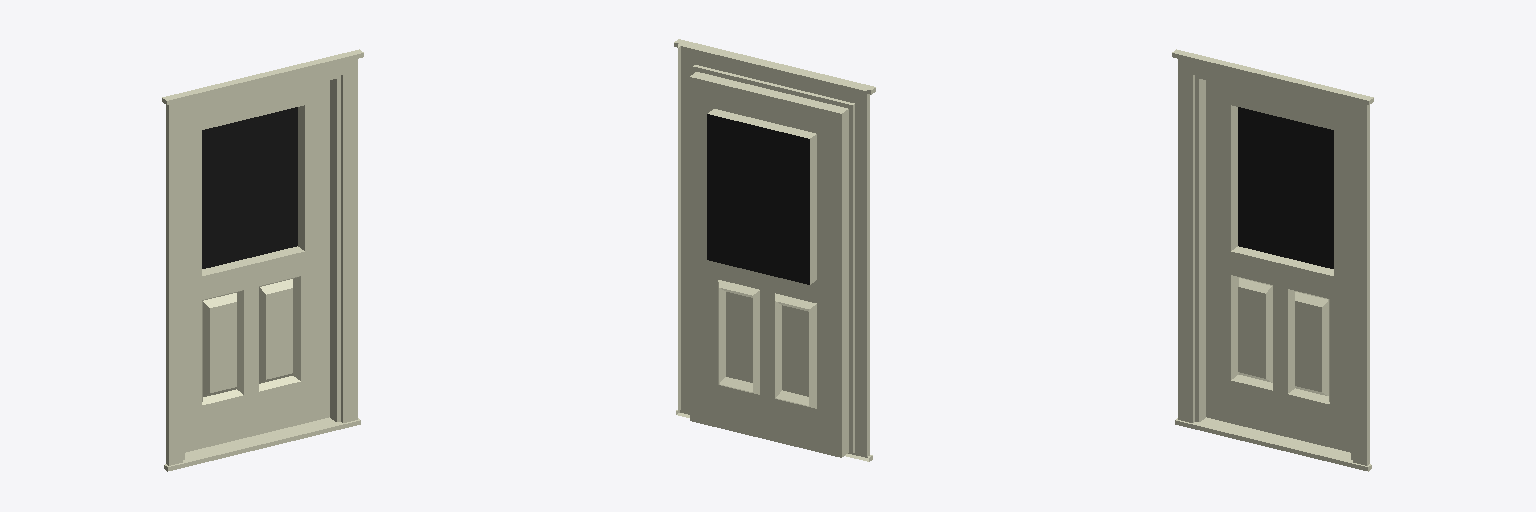
File: cat8_door.obj
3 views of the same model, side by side, from view 1: azimuth 30°, elevation 25°; view 2: azimuth 150°, elevation 25°; view 3: azimuth 330°, elevation 25° (orthographic).
Visible parts, largest first — view 1: Door, Door_Frame_Color B04, Glass; view 2: Door, Door_Frame_Color B04, Glass; view 3: Door, Door_Frame_Color B04, Glass.
Boxes of the visible parts, x1,y1,x2,y2 form: Door: [185, 80, 329, 452]; Door_Frame_Color B04: [162, 49, 363, 471]; Glass: [202, 107, 297, 268]; Door: [690, 77, 841, 457]; Door_Frame_Color B04: [674, 39, 875, 461]; Glass: [707, 114, 809, 284]; Door: [1206, 80, 1350, 452]; Door_Frame_Color B04: [1172, 49, 1373, 471]; Glass: [1238, 107, 1333, 268].
Size of the model in its own units: 48 by 86.5 by 8.